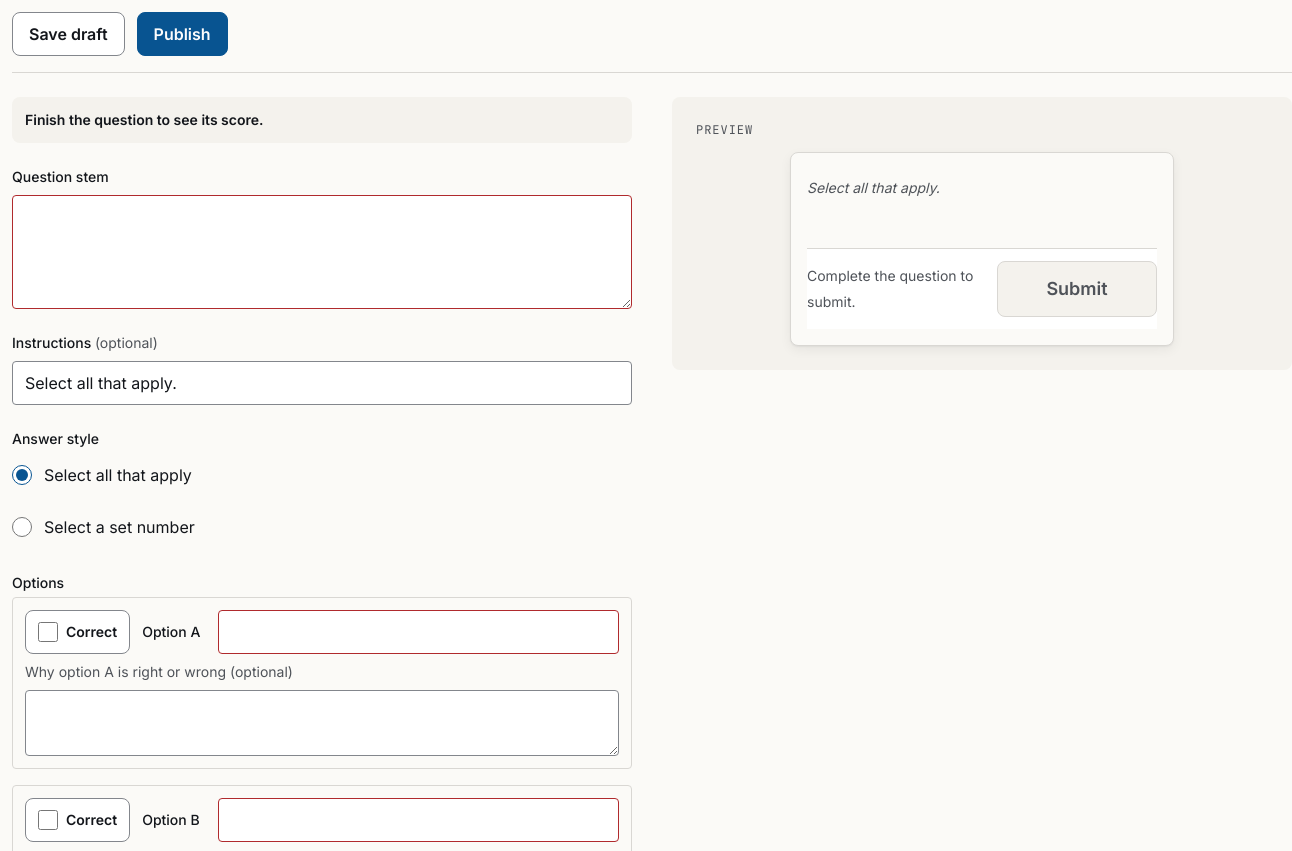
Test case: MultipleResponseEditor › asks for the count only for Select N
Expected: the number field labelled "How many to select" is not shown
Step 1. Click the radio button labelled "Select a set number" → {"x": 22, "y": 527}, box [12,517,32,537]
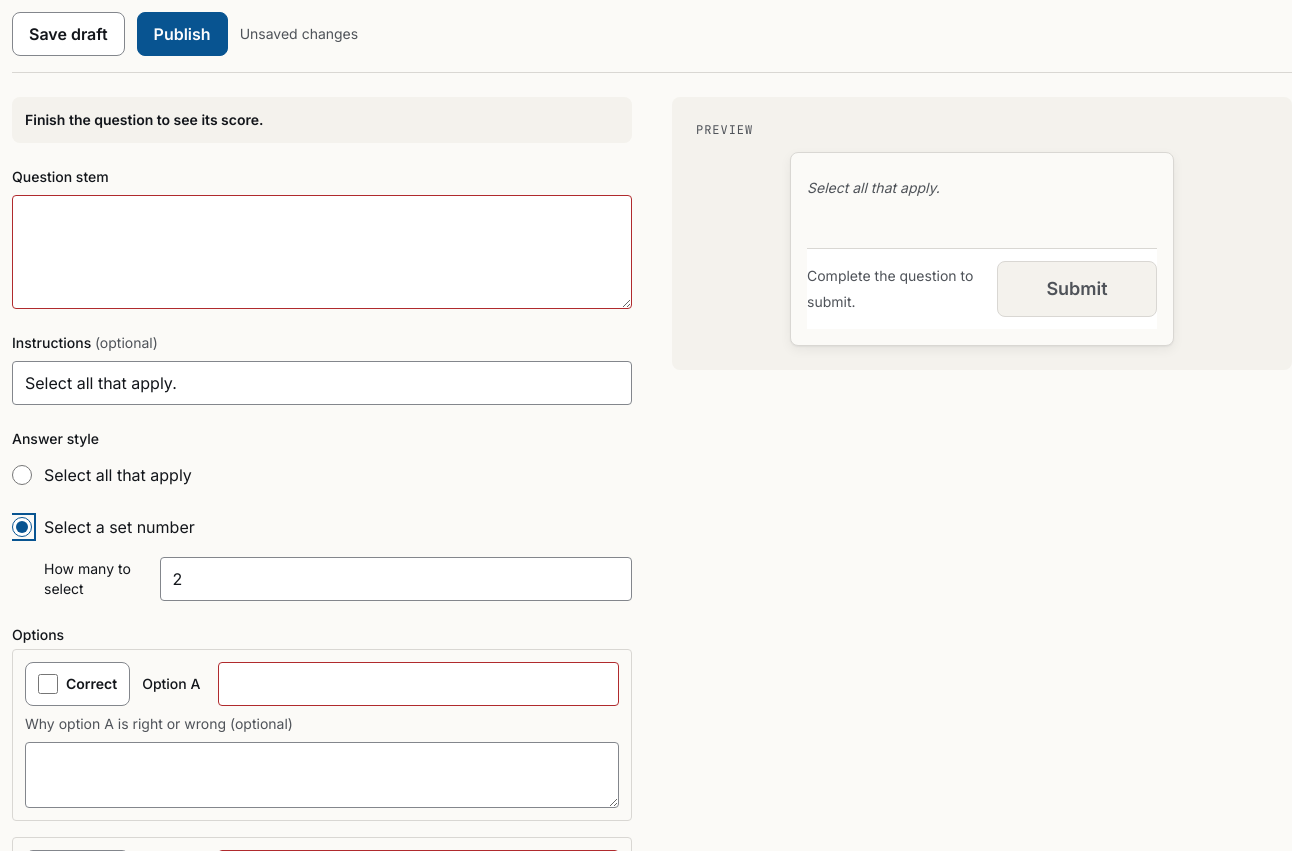
Result: the number field labelled "How many to select" is shown at [160,557,632,601]
